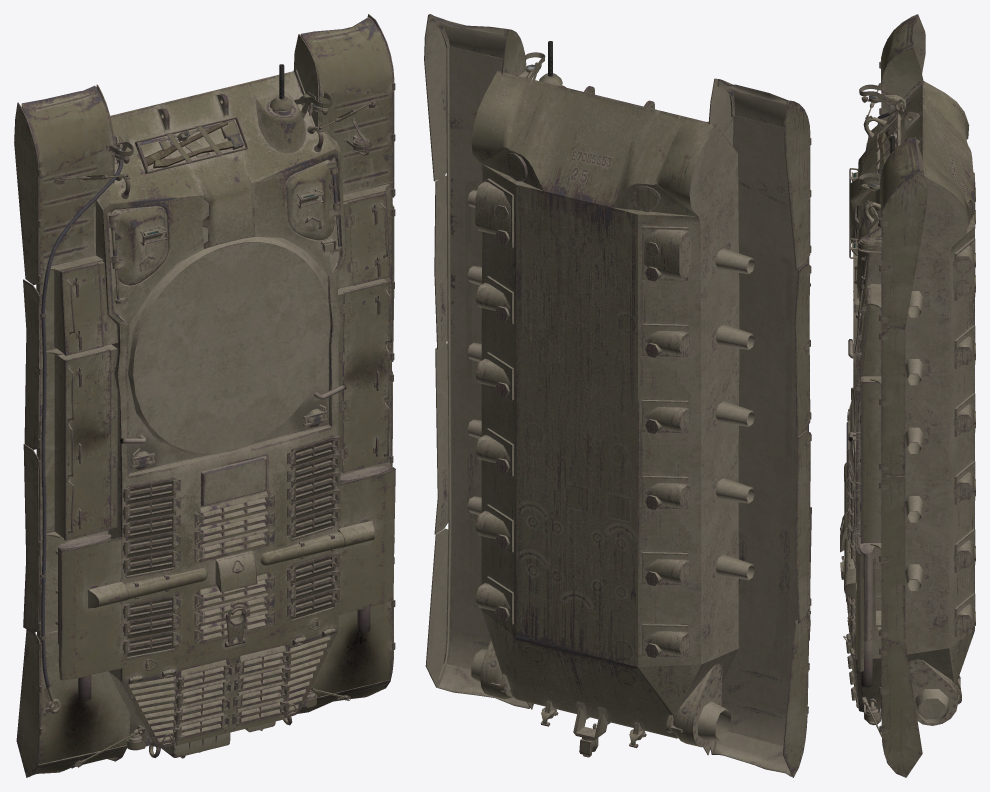
The model's file is Hull.glb.
3 renders of one model, left to right at view 1: azimuth 30°, elevation 25°; view 2: azimuth 150°, elevation 25°; view 3: azimuth 270°, elevation 25°, orthographic. The views are drawn at different scales.
Visible parts, largest first — view 1: set_0_group_0; view 2: set_0_group_0; view 3: set_0_group_0.
Boxes of the visible parts, x1,y1,x2,y2 form: set_0_group_0: (14, 14, 395, 777); set_0_group_0: (424, 14, 811, 777); set_0_group_0: (840, 14, 975, 777).
Size of the model in its own units: 3.55 by 6.37 by 1.28.
Materials: 1 (1 with a texture image).
